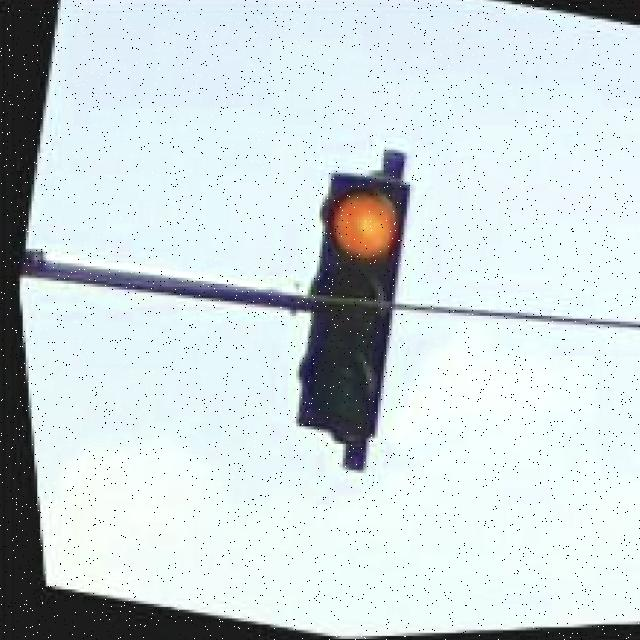Lampu Merah: (266, 164, 426, 444)
